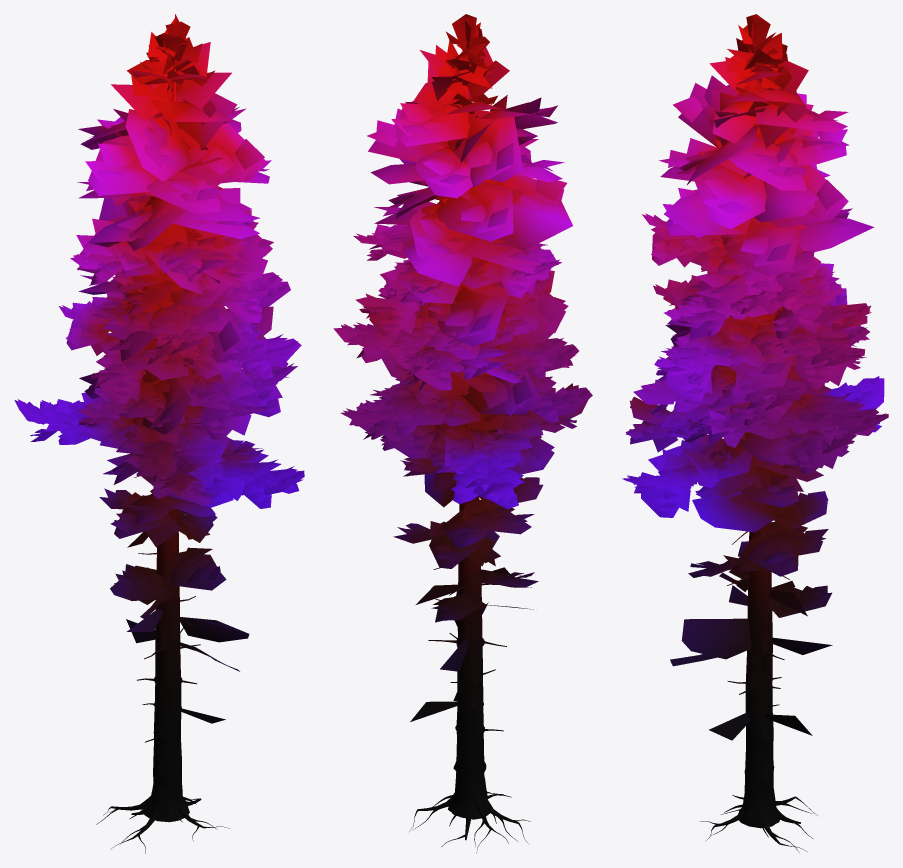
File: Fir_05_Standalone.FBX
3 renders of one model, left to right at view 1: azimuth 30°, elevation 25°; view 2: azimuth 150°, elevation 25°; view 3: azimuth 270°, elevation 25°, orthographic.
Visible parts, largest first — view 1: Fir_05_Standalone_LOD0; view 2: Fir_05_Standalone_LOD0; view 3: Fir_05_Standalone_LOD0.
Part boxes in pixels (x1,y1,x2,y2): Fir_05_Standalone_LOD0: (14, 14, 304, 853); Fir_05_Standalone_LOD0: (333, 14, 592, 852); Fir_05_Standalone_LOD0: (622, 14, 888, 852).
Size of what is drawn, in the model's own units: 5309 by 18539 by 5422.
